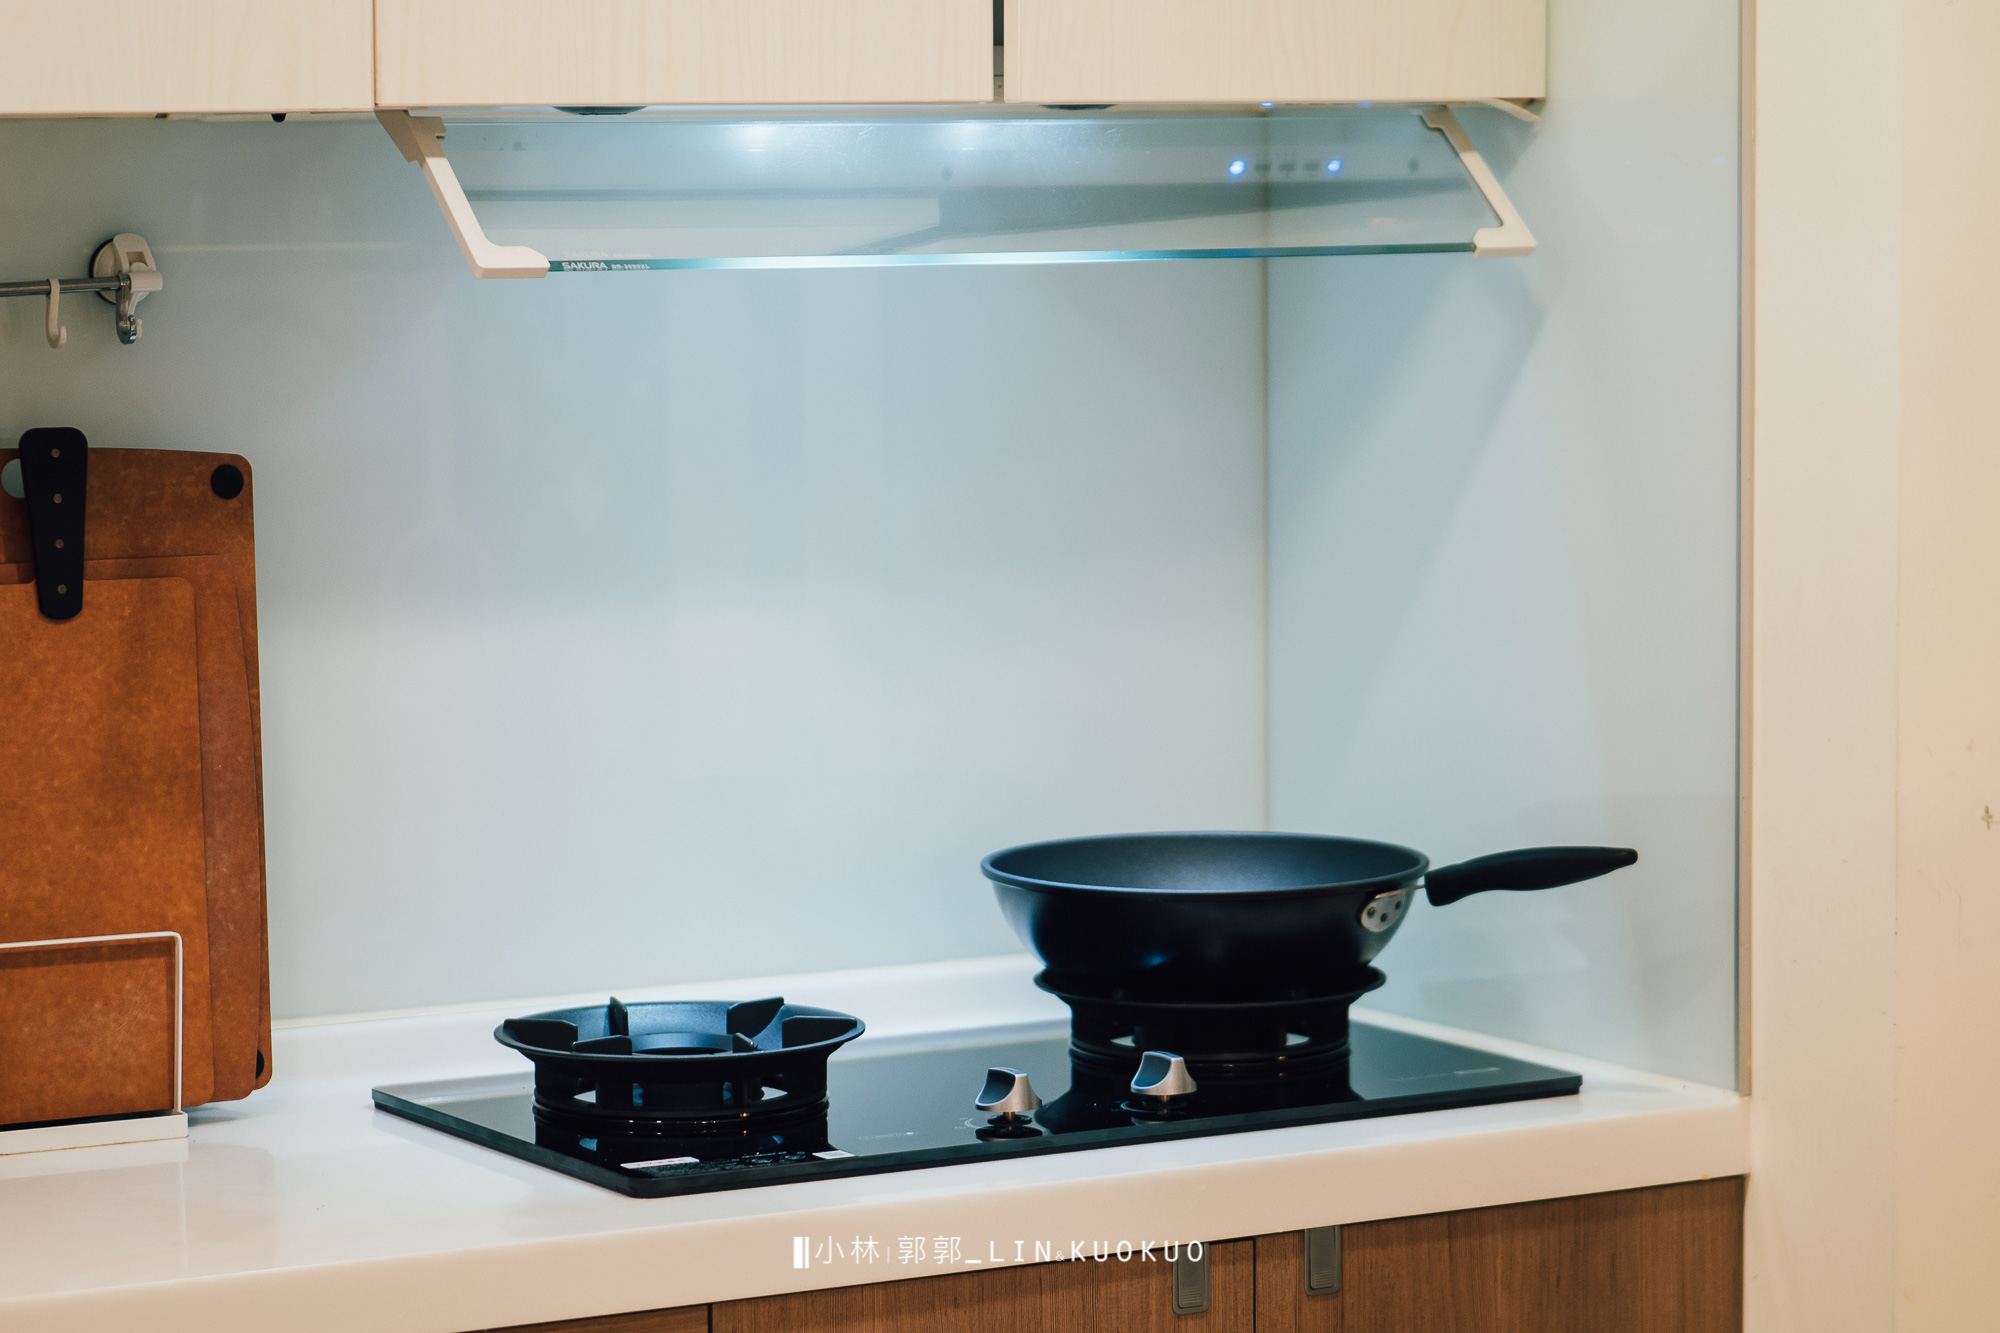gasoven: (370, 966, 1601, 1201)
